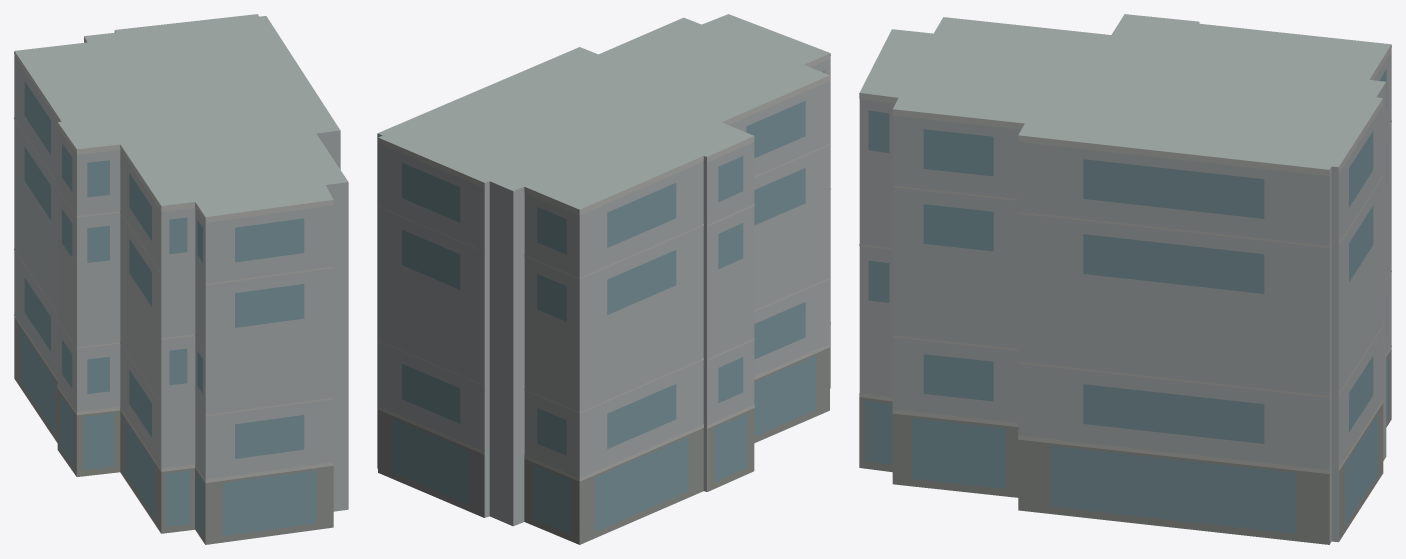
The model's file is survey-upis-32929400.glb.
3 views of the same model, side by side, from view 1: azimuth 30°, elevation 25°; view 2: azimuth 150°, elevation 25°; view 3: azimuth 270°, elevation 25° (orthographic). The views are drawn at different scales.
Visible parts, largest first — view 1: survey-upis-32929400.tmp; view 2: survey-upis-32929400.tmp; view 3: survey-upis-32929400.tmp.
Part boxes in pixels (bbox=[...]): survey-upis-32929400.tmp: bbox=[14, 14, 348, 544]; survey-upis-32929400.tmp: bbox=[377, 14, 830, 544]; survey-upis-32929400.tmp: bbox=[859, 14, 1391, 544].
Size of the model in its own units: 12.86 by 14.4 by 18.54.
